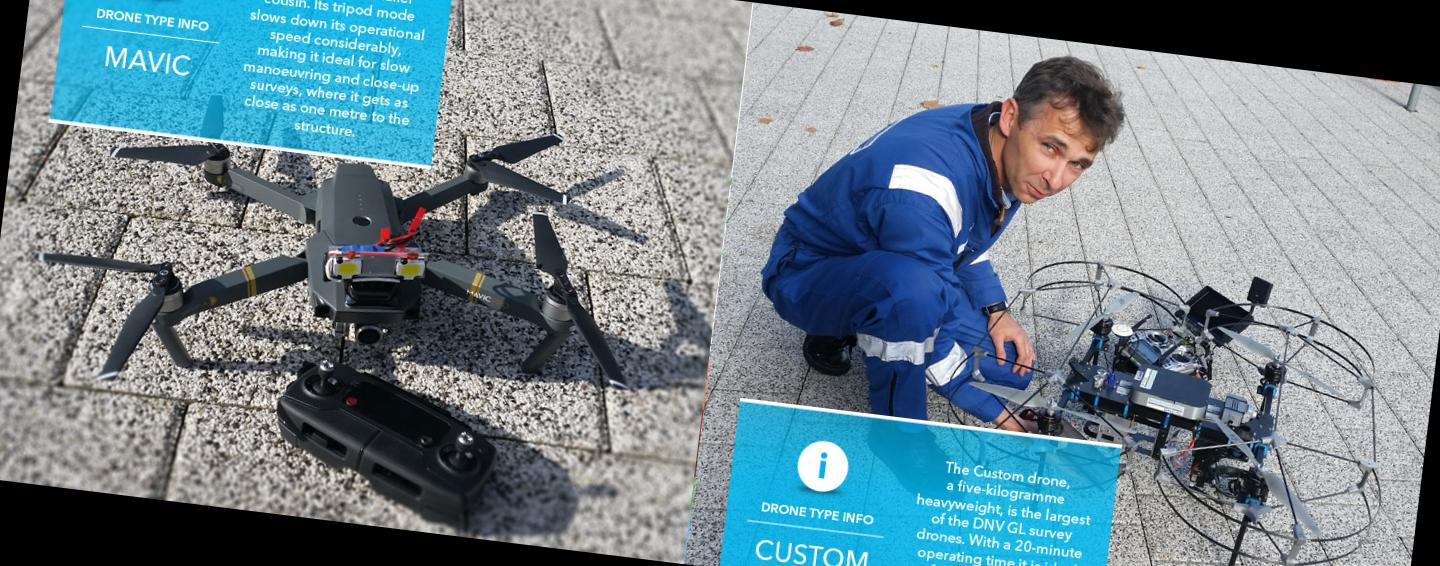drone: (77, 64, 656, 436), (942, 225, 1396, 566)
